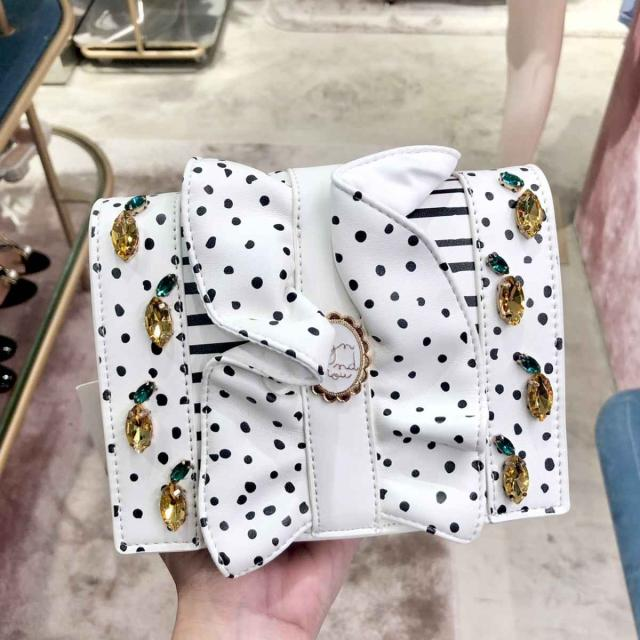handbag: (59, 146, 590, 568)
